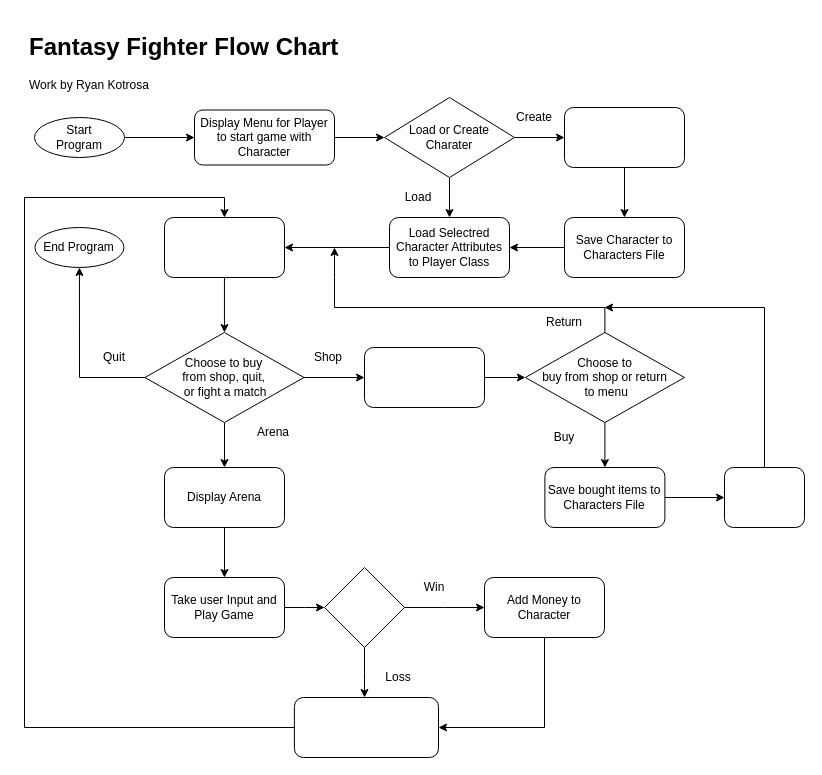
Some shapes in this 822 by 775 pixel diagram are drawn without their labels. Each missing label, with the centre of its shape:
"Display Game Menu" goes at (224,247).
"Display Shop" goes at (424,377).
"Make a new Player Class and fill with Default Values" goes at (624,137).
"Save Character Stats" goes at (365,727).
"Show Inventory" goes at (764,497).
"Win or Loss" goes at (364,607).
